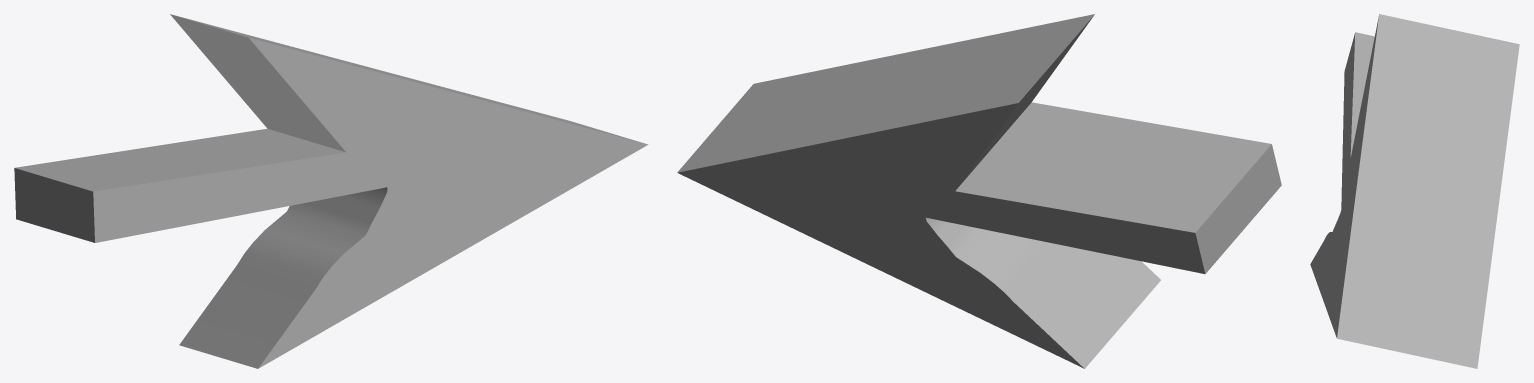
Rendered from fleche.glb.
The picture shows the model from 3 angles, left to right: view 1: azimuth 30°, elevation 25°; view 2: azimuth 150°, elevation 25°; view 3: azimuth 270°, elevation 25°; orthographic projection. The views are drawn at different scales.
Parts seen in each view (by area): view 1: mesh_id40; view 2: mesh_id40; view 3: mesh_id40.
Boxes of the visible parts, bbox=[...] form: mesh_id40: bbox=[14, 14, 648, 368]; mesh_id40: bbox=[677, 14, 1281, 368]; mesh_id40: bbox=[1310, 14, 1519, 368].
Bounding box in the file's own units: 0.3056 × 0.1753 × 0.1134.
Materials: 1 (1 with a texture image).
